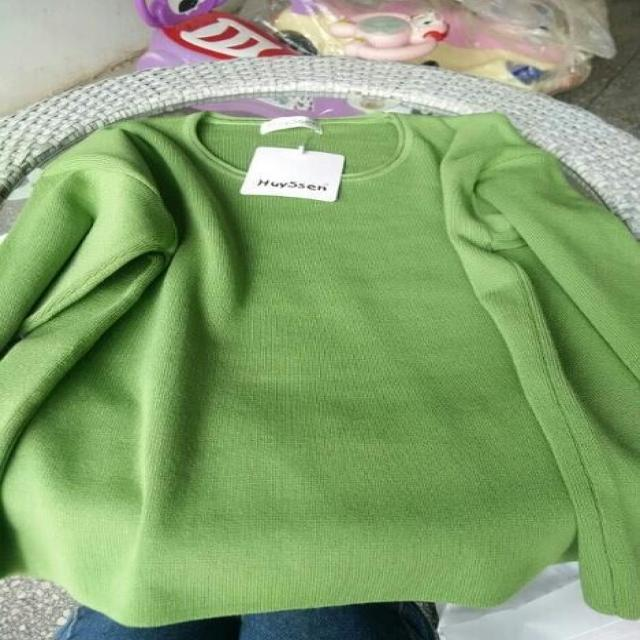long sleeve top: (3, 115, 637, 616)
